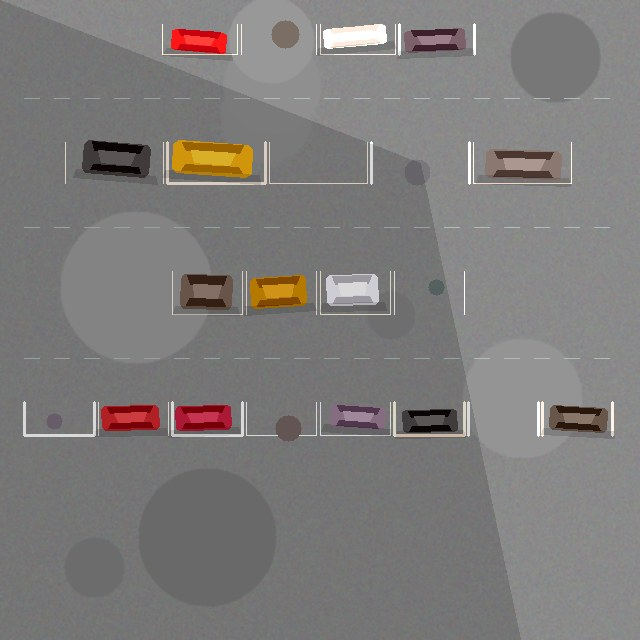space-empty: (269, 142, 367, 183), (371, 142, 469, 183), (394, 271, 464, 314), (24, 402, 94, 435), (246, 402, 316, 435), (468, 402, 538, 435), (241, 24, 316, 54)
space-occupied: (65, 142, 163, 183), (167, 142, 265, 183), (473, 142, 571, 183), (172, 271, 242, 314), (246, 271, 316, 314), (320, 271, 390, 314), (98, 402, 168, 435), (172, 402, 242, 435), (320, 402, 390, 435), (394, 402, 464, 435), (542, 402, 612, 435), (162, 24, 237, 54), (320, 24, 395, 54), (399, 24, 474, 54)
